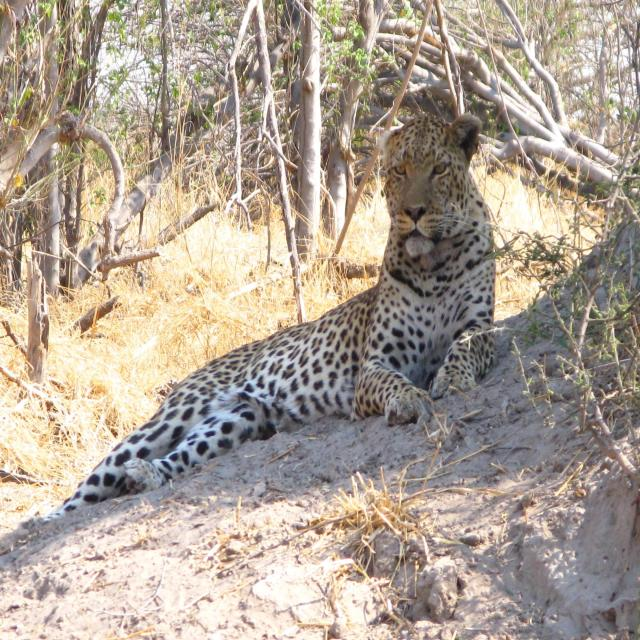Leopard: (38, 160, 499, 510)
